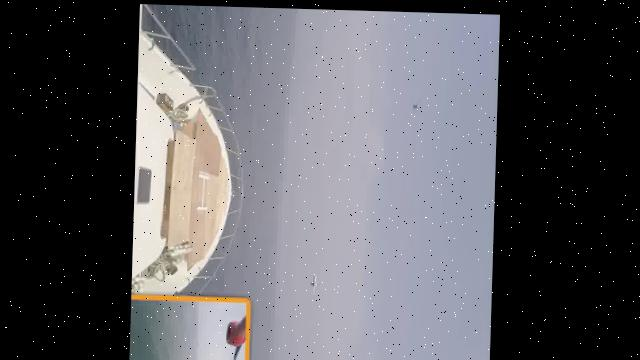drone: (132, 3, 275, 360)
